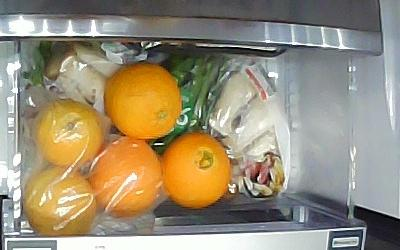orange: (107, 61, 183, 140), (163, 132, 232, 209)
orange_vinyl: (91, 138, 162, 218), (27, 166, 95, 237), (37, 99, 102, 167)
